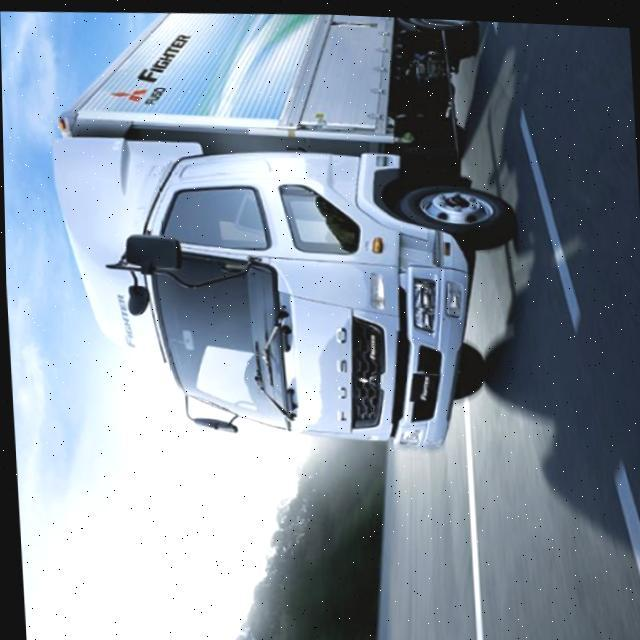truck: (39, 1, 528, 468)
